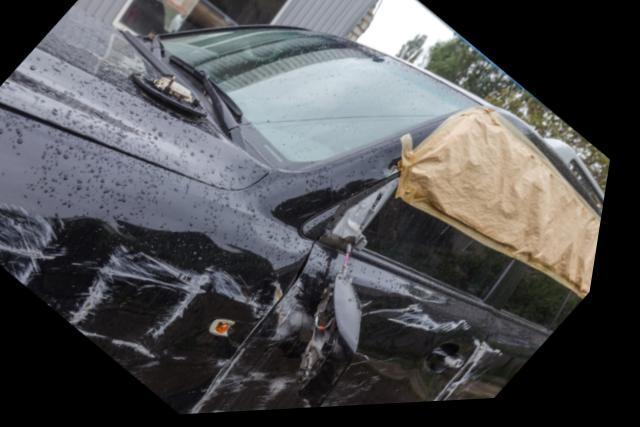rub: (0, 197, 276, 417), (206, 287, 326, 416), (445, 343, 515, 407), (331, 357, 399, 411), (396, 308, 478, 346)
